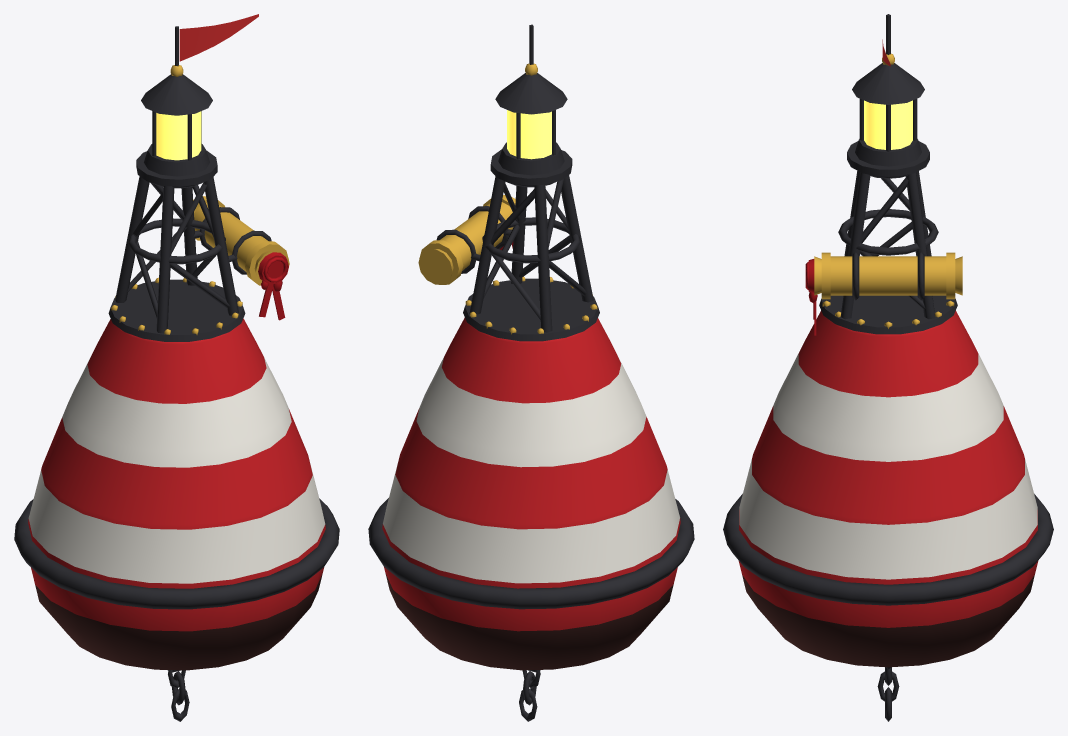
File: disc-navy-buoy.glb
3 views of the same model, side by side, from view 1: azimuth 30°, elevation 25°; view 2: azimuth 150°, elevation 25°; view 3: azimuth 270°, elevation 25° (orthographic).
Parts seen in each view (by area): view 1: Mesh_BodyRedMid, Mesh_BodyWhiteLower, Mesh_BodyWhiteUpper, Mesh_BodyRedTop, Mesh_BodyBottom, Mesh_Fender, Mesh_BodyRedWaterline, Mesh_DeckPlate, Mesh_BeaconCap, Mesh_LanternGlass, Mesh_TowerLeg1, Mesh_Pennant (+9 smaller); view 2: Mesh_BodyRedMid, Mesh_BodyWhiteLower, Mesh_BodyWhiteUpper, Mesh_BodyRedTop, Mesh_BodyBottom, Mesh_Fender, Mesh_BodyRedWaterline, Mesh_DeckPlate, Mesh_BeaconCap, Mesh_LanternGlass, Mesh_TowerLeg2, Mesh_TowerLeg3 (+8 smaller); view 3: Mesh_BodyRedMid, Mesh_BodyWhiteLower, Mesh_BodyWhiteUpper, Mesh_BodyRedTop, Mesh_BodyBottom, Mesh_Fender, Mesh_BodyRedWaterline, Mesh_DispatchTube, Mesh_DeckPlate, Mesh_BeaconCap, Mesh_LanternGlass, Mesh_TowerRingMid (+5 smaller).
Boxes of the visible parts, bbox=[...] form: Mesh_BodyRedMid: bbox=[41, 409, 312, 529]; Mesh_BodyWhiteLower: bbox=[28, 464, 325, 583]; Mesh_BodyWhiteUpper: bbox=[62, 358, 291, 467]; Mesh_BodyRedTop: bbox=[87, 318, 266, 403]; Mesh_BodyBottom: bbox=[35, 574, 322, 670]; Mesh_Fender: bbox=[14, 498, 339, 609]; Mesh_BodyRedWaterline: bbox=[28, 519, 325, 631]; Mesh_DeckPlate: bbox=[108, 279, 245, 341]; Mesh_BeaconCap: bbox=[141, 74, 212, 115]; Mesh_LanternGlass: bbox=[156, 111, 201, 160]; Mesh_TowerLeg1: bbox=[156, 186, 174, 333]; Mesh_Pennant: bbox=[179, 14, 258, 61]; Mesh_BodyRedMid: bbox=[395, 408, 667, 529]; Mesh_BodyWhiteLower: bbox=[383, 463, 679, 583]; Mesh_BodyWhiteUpper: bbox=[416, 357, 646, 467]; Mesh_BodyRedTop: bbox=[442, 317, 621, 403]; Mesh_BodyBottom: bbox=[385, 573, 673, 670]; Mesh_Fender: bbox=[368, 498, 694, 609]; Mesh_BodyRedWaterline: bbox=[382, 518, 680, 631]; Mesh_DeckPlate: bbox=[463, 278, 599, 341]; Mesh_BeaconCap: bbox=[495, 73, 567, 114]; Mesh_LanternGlass: bbox=[507, 110, 551, 159]; Mesh_TowerLeg2: bbox=[534, 184, 552, 332]; Mesh_TowerLeg3: bbox=[469, 176, 505, 314]; Mesh_BodyRedMid: bbox=[752, 406, 1024, 524]; Mesh_BodyWhiteLower: bbox=[739, 459, 1037, 579]; Mesh_BodyWhiteUpper: bbox=[773, 354, 1003, 461]; Mesh_BodyRedTop: bbox=[798, 310, 978, 397]; Mesh_BodyBottom: bbox=[742, 575, 1034, 667]; Mesh_Fender: bbox=[723, 493, 1053, 605]; Mesh_BodyRedWaterline: bbox=[738, 510, 1038, 627]; Mesh_DispatchTube: bbox=[830, 256, 946, 295]; Mesh_DeckPlate: bbox=[819, 295, 957, 334]; Mesh_BeaconCap: bbox=[852, 63, 924, 104]; Mesh_LanternGlass: bbox=[864, 100, 912, 149]; Mesh_TowerRingMid: bbox=[838, 209, 938, 255].
Bounding box in the file's own units: 3.34 × 7.86 × 3.34.
